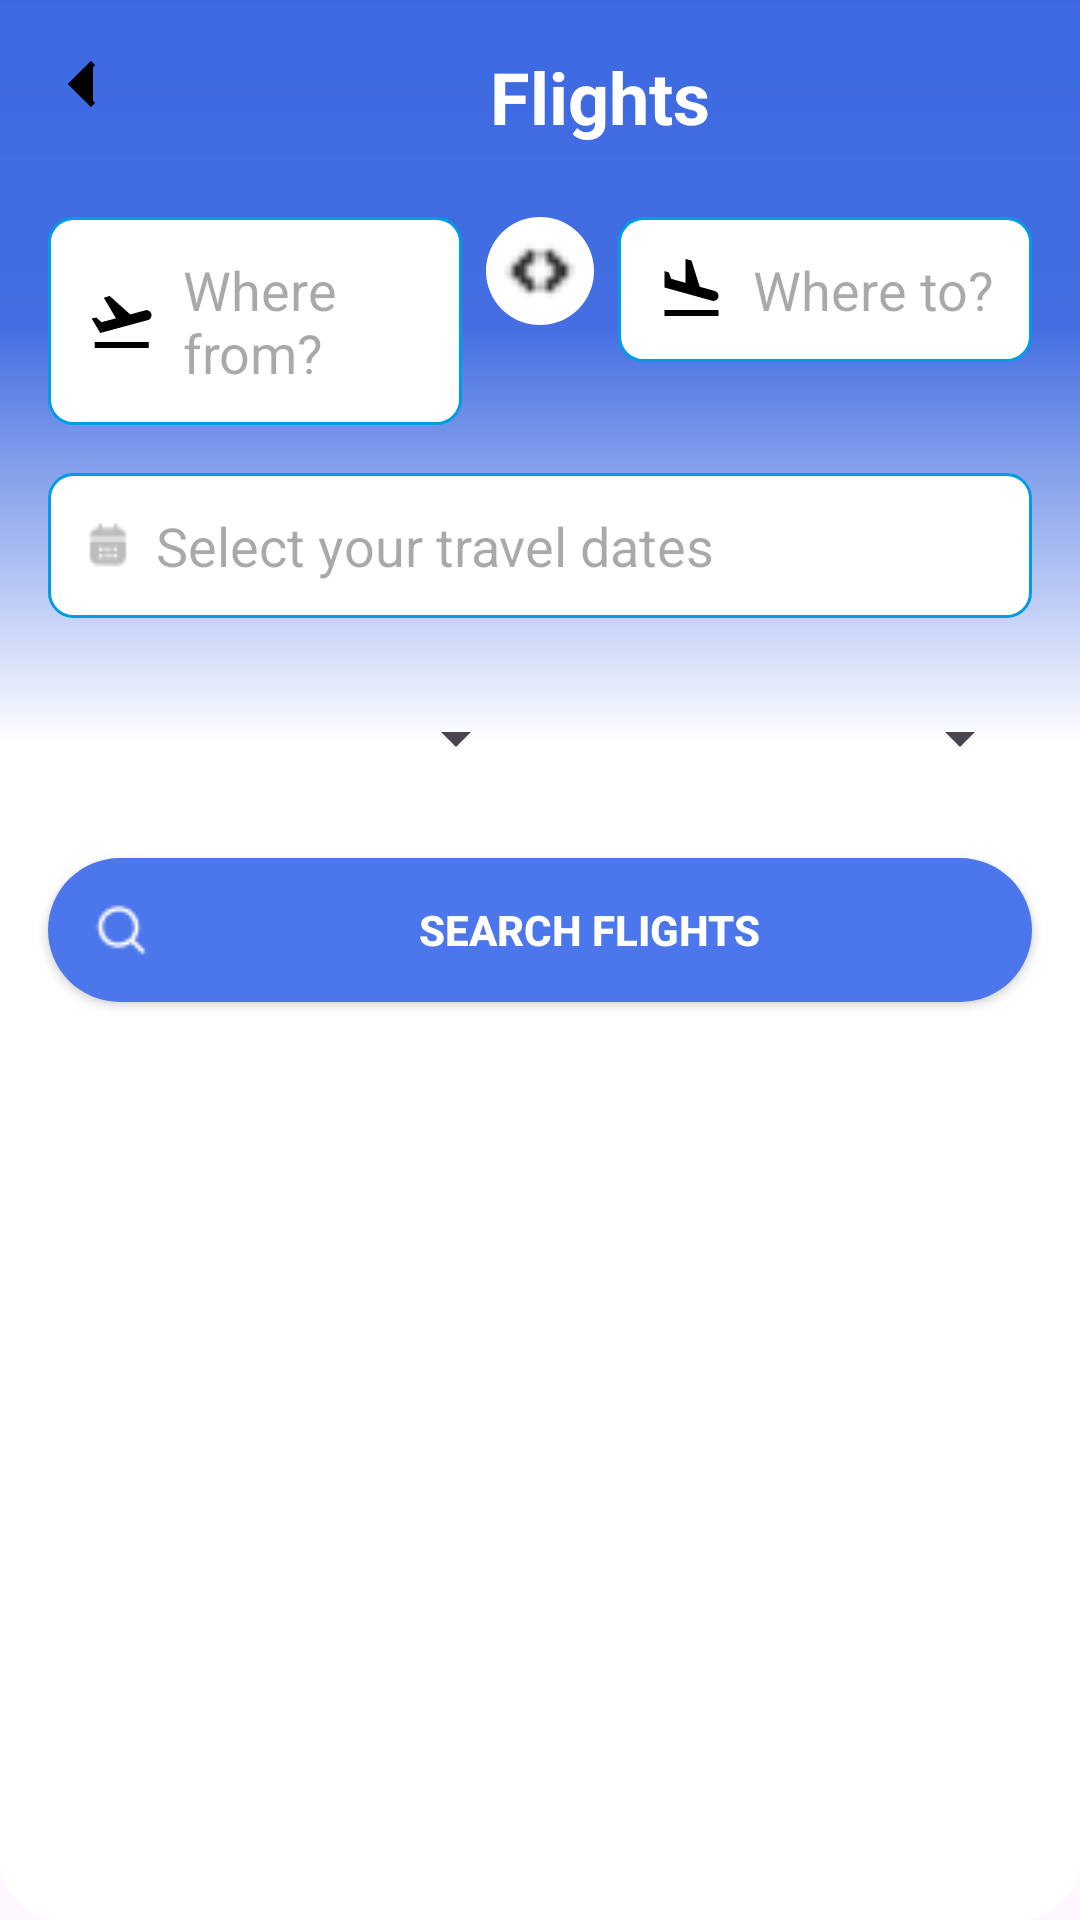

Screen size 1080*1920. Icon name, then its center in pixels as (x=x, y=y):
Back: (x=81, y=84)
Swap: (x=540, y=271)
